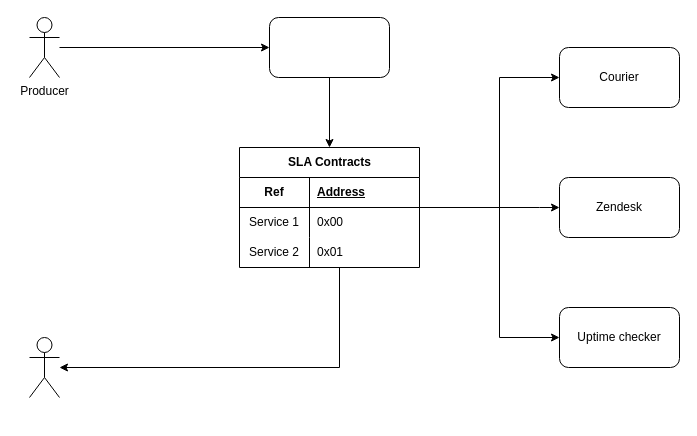
This 697x436 diagram has some shape labels left out. The shapes that lost their labels are listed below. From the top down, each one's centre as x and y in pixels, then its label:
(x=329, y=47): Manager Contract
(x=44, y=367): Consumer
